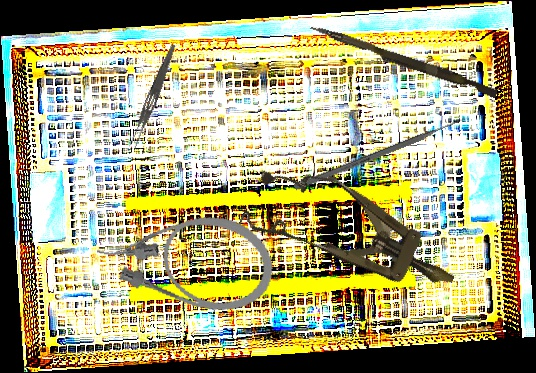Cannula: (89, 192, 283, 322)
Dressing Forceps: (127, 42, 178, 150)
Pusher: (307, 23, 500, 99), (293, 114, 471, 191)
Speculum: (237, 148, 471, 320)
